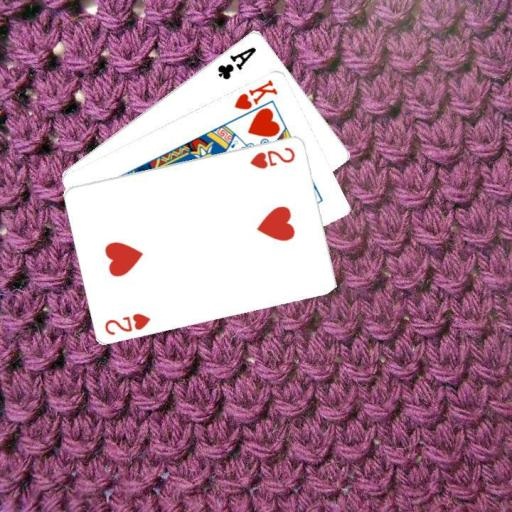2H: (247, 143, 297, 170), (102, 310, 152, 337)
AC: (214, 43, 258, 81)
KH: (231, 75, 280, 111)
